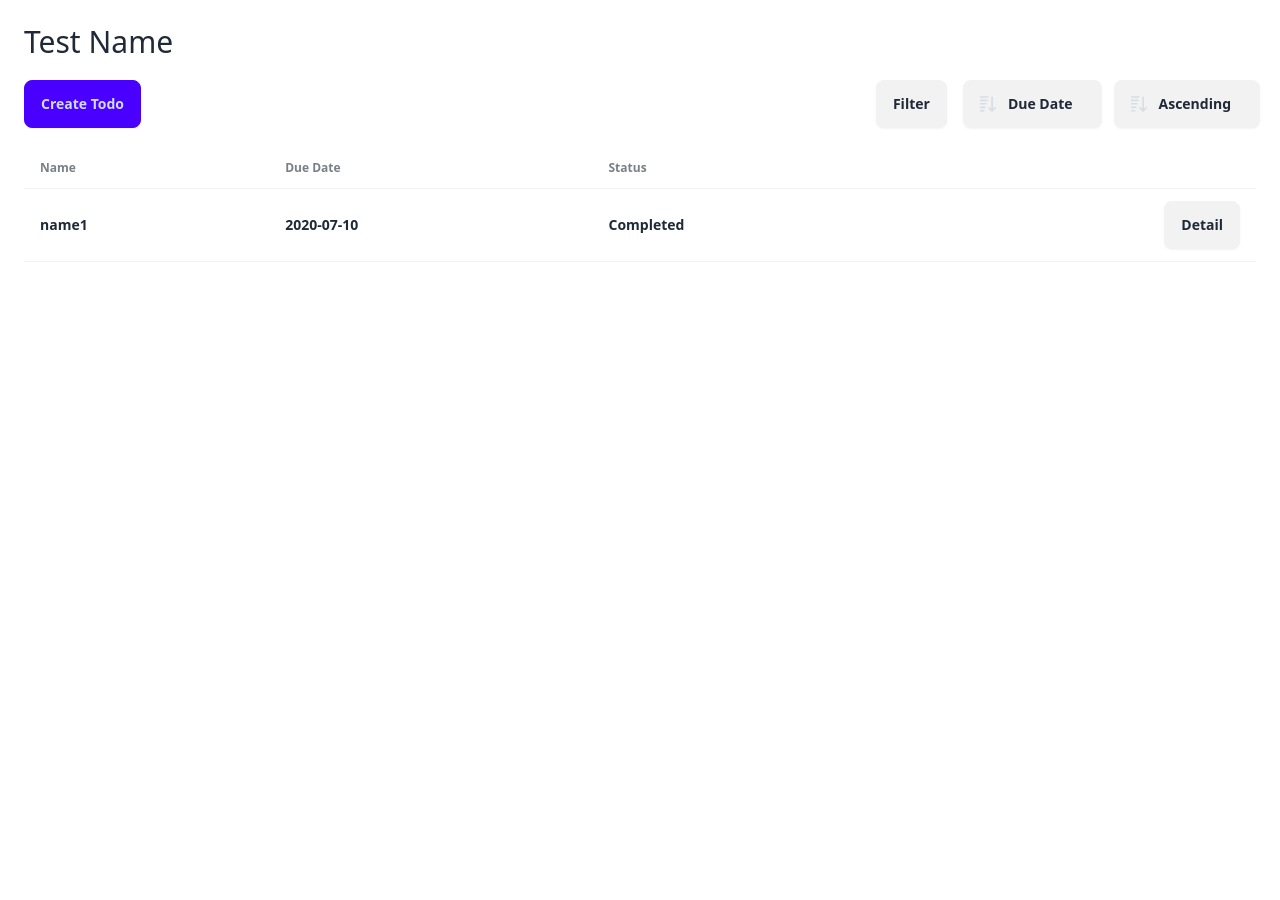
Scenario: TodoListPage › update › should show update todo popup when clicking create
Click the button "Detail".
click(1202, 225)  # box x1=1164 y1=201 x2=1240 y2=249
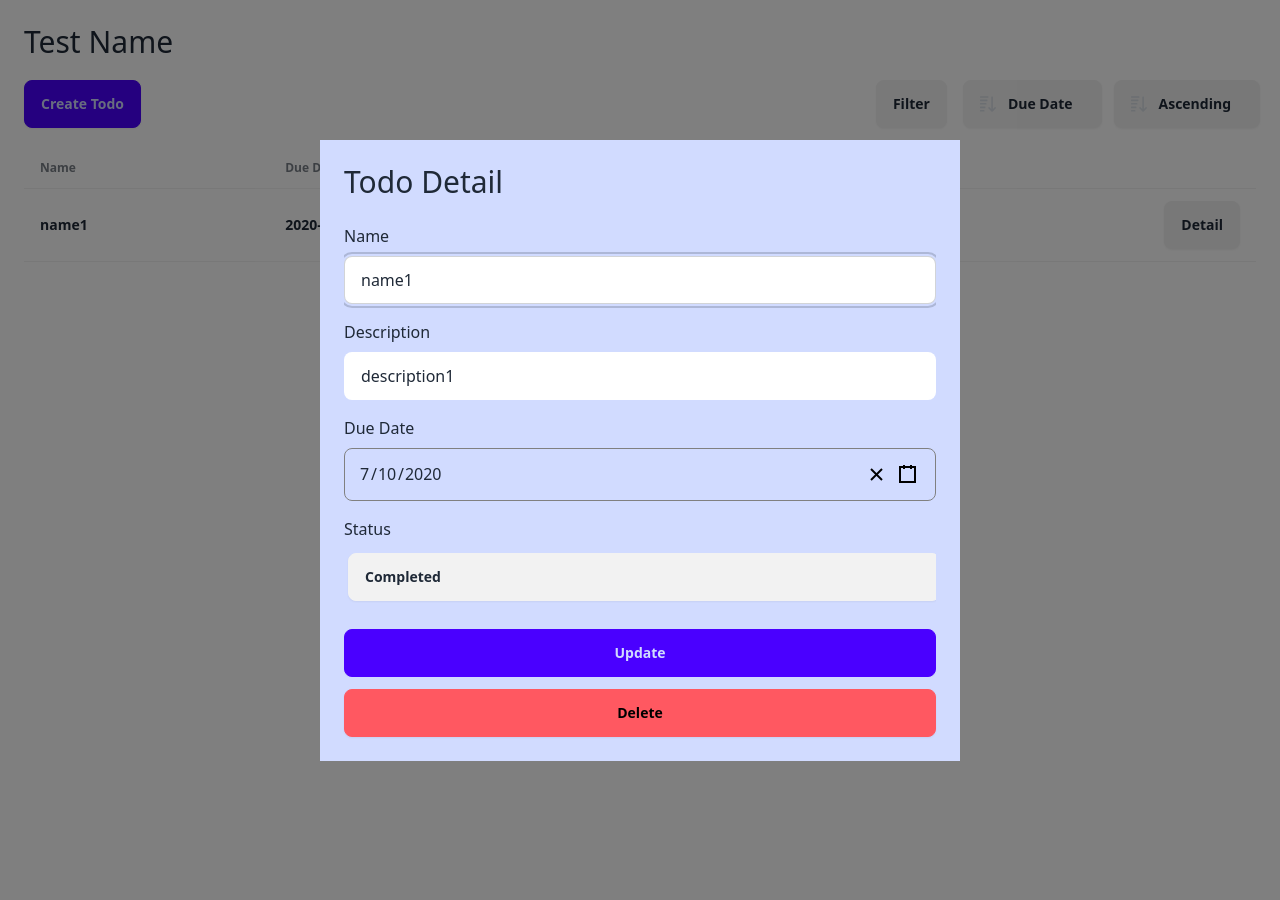
Result: the text "Name" is shown at x1=344 y1=224 x2=389 y2=246
Result: the text "Description" is shown at x1=344 y1=320 x2=430 y2=342
Result: the text "Status" is shown at x1=344 y1=518 x2=391 y2=540
